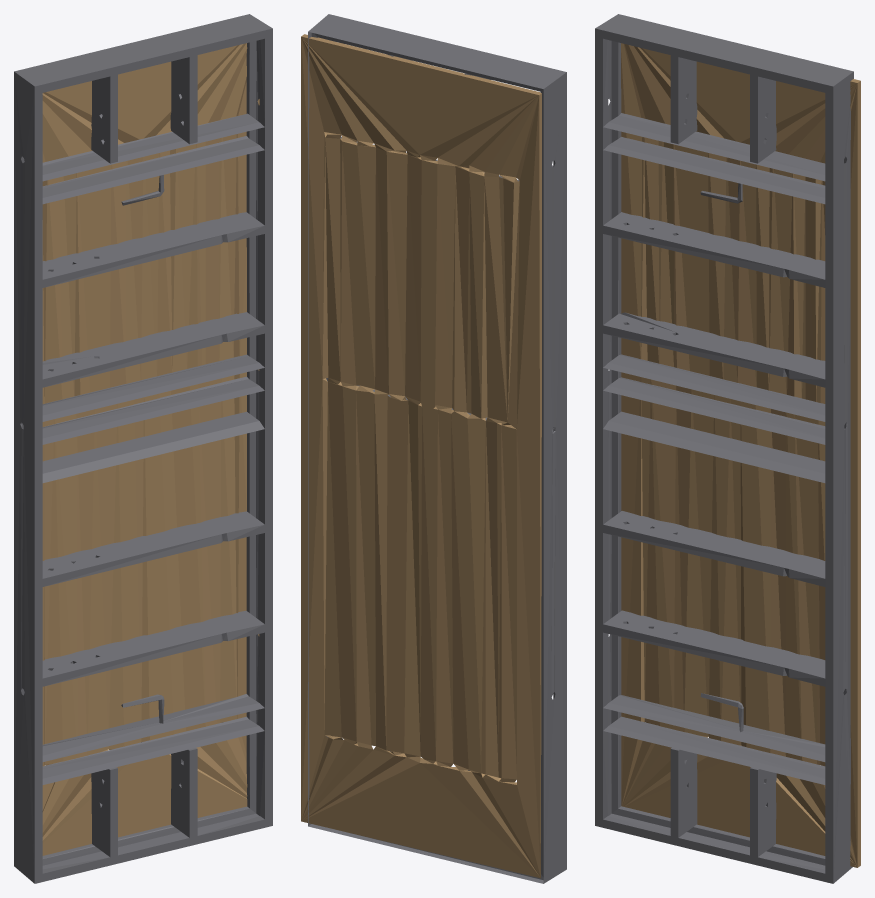
3 views of the same model, side by side, from view 1: azimuth 30°, elevation 25°; view 2: azimuth 150°, elevation 25°; view 3: azimuth 330°, elevation 25° (orthographic).
Visible parts, largest first — view 1: 24754224; view 2: 24754224; view 3: 24754224.
Boxes of the visible parts, x1,y1,x2,y2 form: 24754224: [14, 14, 272, 883]; 24754224: [301, 14, 566, 883]; 24754224: [595, 14, 860, 883].
Bounding box in the file's own units: 0.7695 × 2.4 × 0.12.
